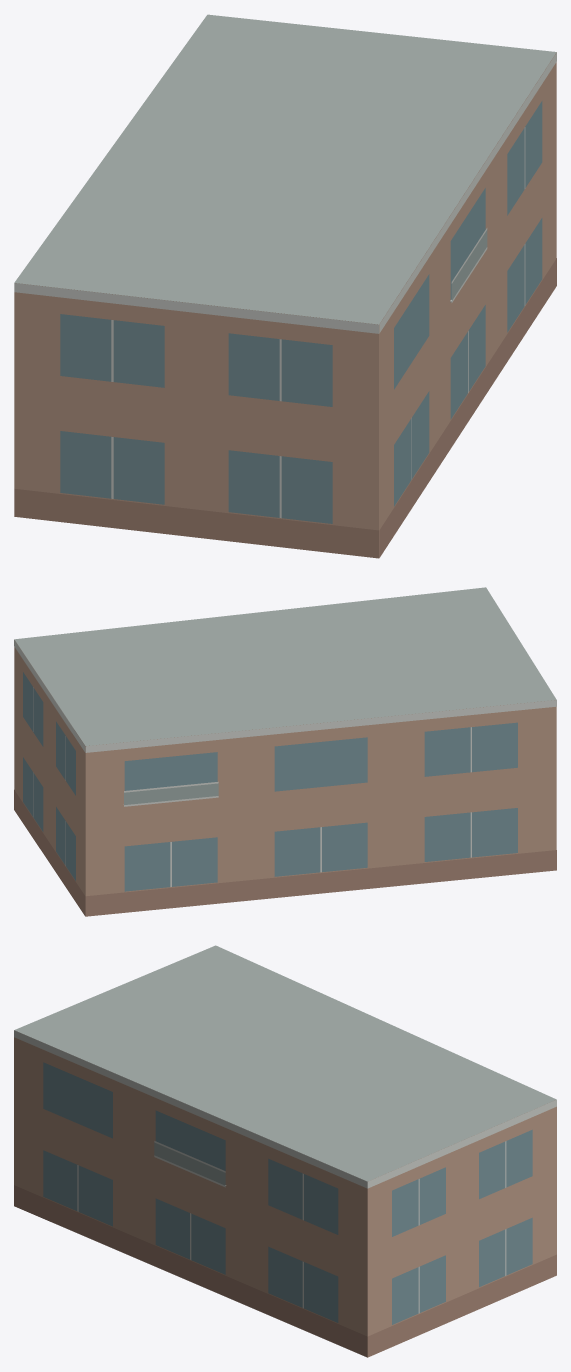
Rendered from survey-upis-32825762.glb.
3 views of the same model, one above another, from view 1: azimuth 30°, elevation 25°; view 2: azimuth 150°, elevation 25°; view 3: azimuth 270°, elevation 25° (orthographic). The views are drawn at different scales.
Parts seen in each view (by area): view 1: survey-upis-32825762.tmp; view 2: survey-upis-32825762.tmp; view 3: survey-upis-32825762.tmp.
Part boxes in pixels (box(x1,y1,x2,y2)): survey-upis-32825762.tmp: box(14, 14, 556, 558); survey-upis-32825762.tmp: box(14, 587, 556, 916); survey-upis-32825762.tmp: box(14, 945, 556, 1357).
Bounding box in the file's own units: 17.57 × 6.1 × 17.06.
